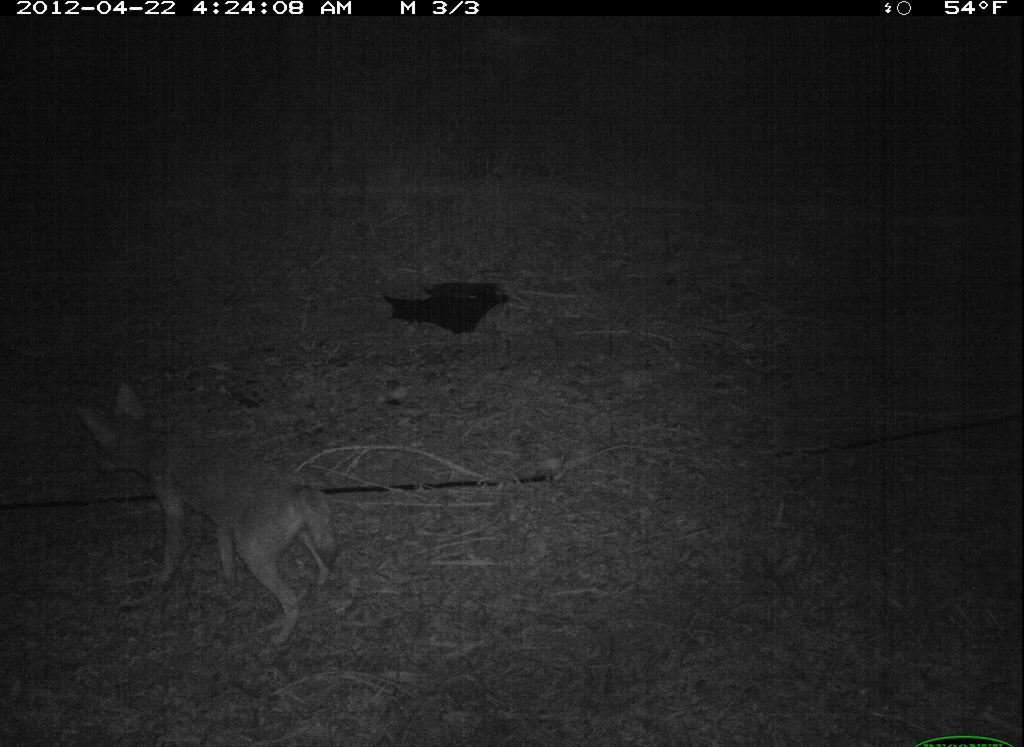coyote: (68, 377, 342, 648)
